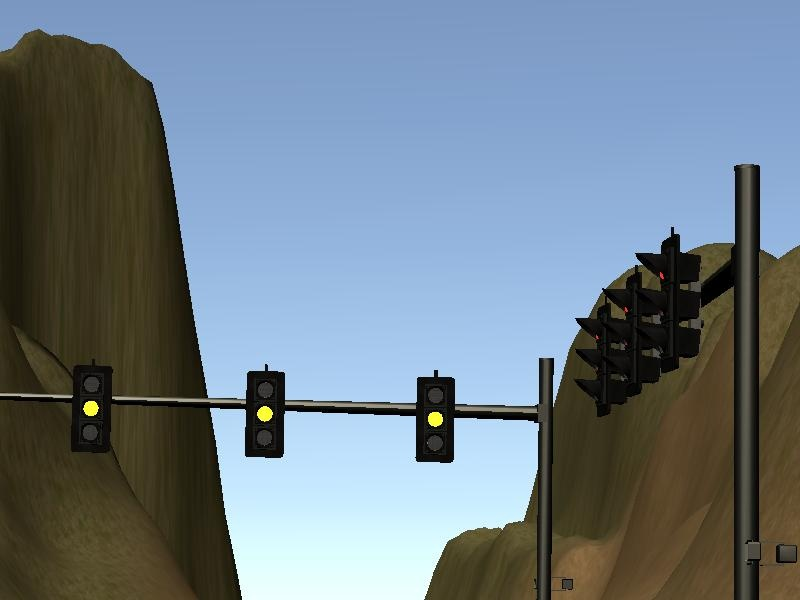YELLOW: (243, 370, 286, 458), (69, 366, 112, 454), (416, 378, 455, 464)
